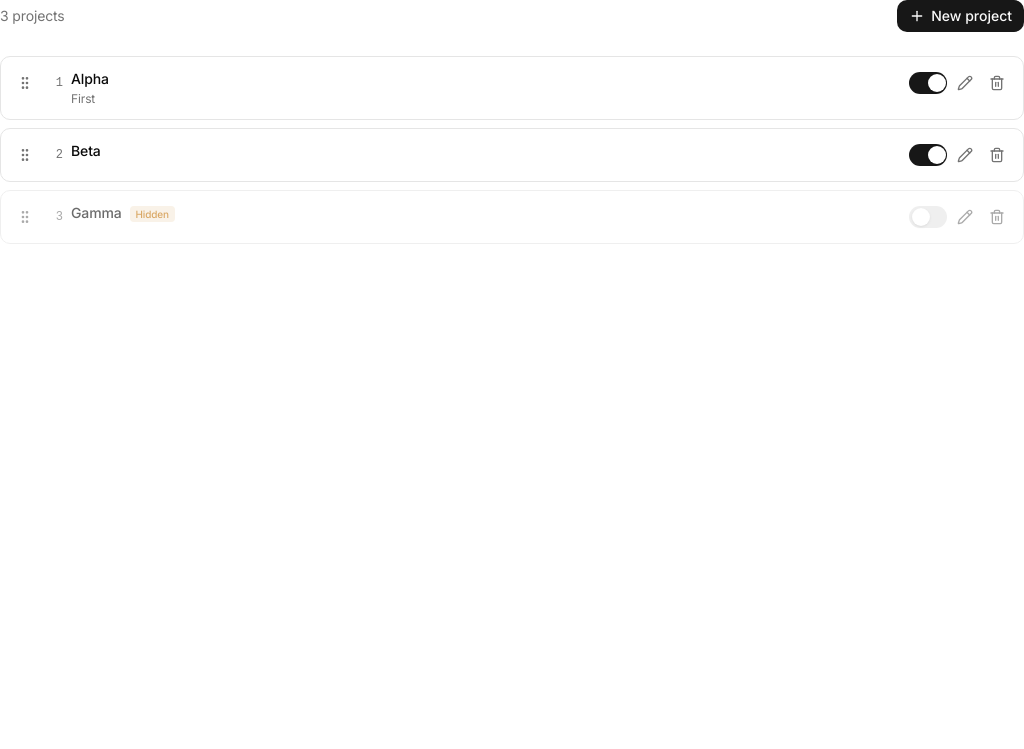
Test: form › maps server field errors back onto the form
Click the button named "Edit Alpha": (965, 83) [951,69,979,97]
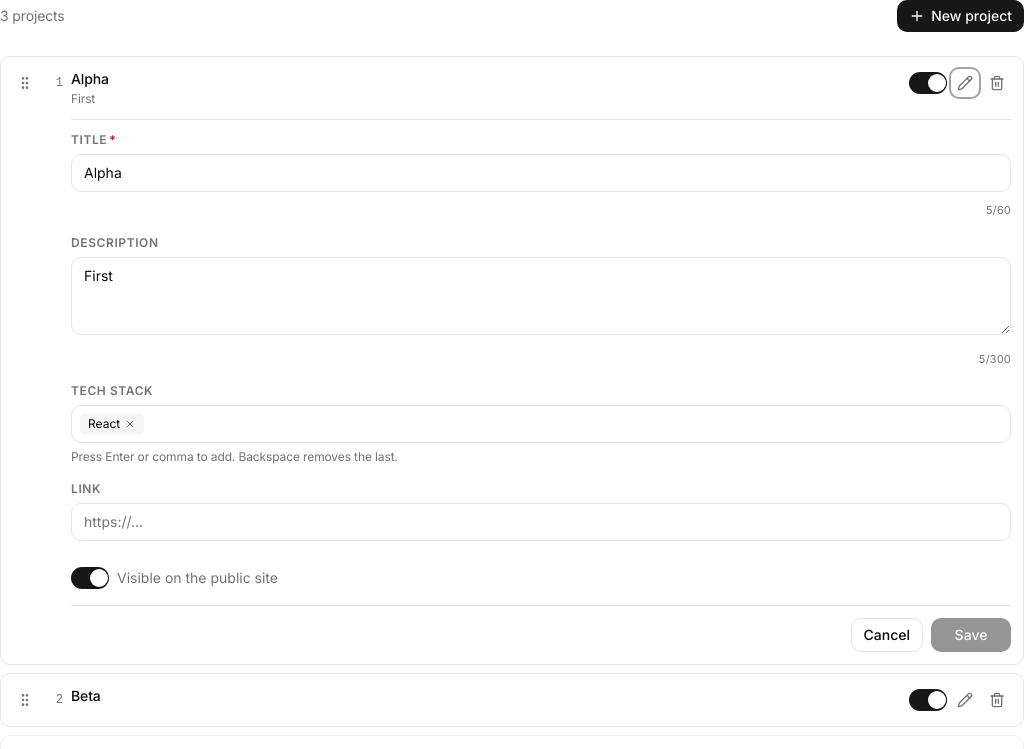
In the field labelled "Title*": (541, 173) [71,154,1011,192], type "!"
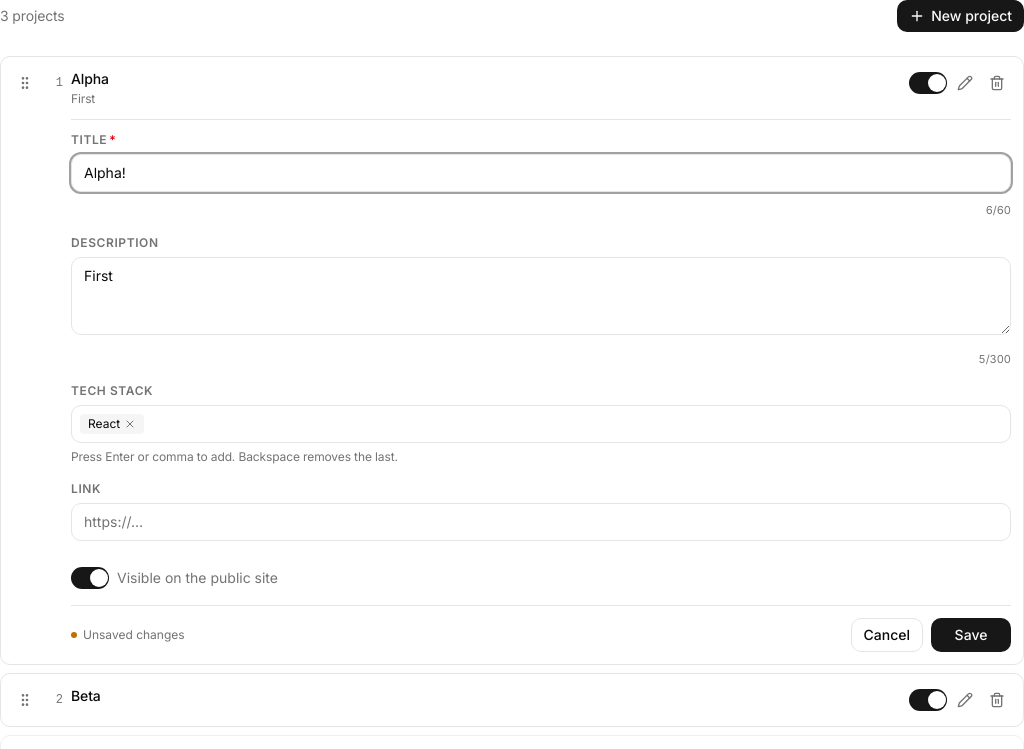
Click the button "Save": (971, 635) [931,618,1011,652]
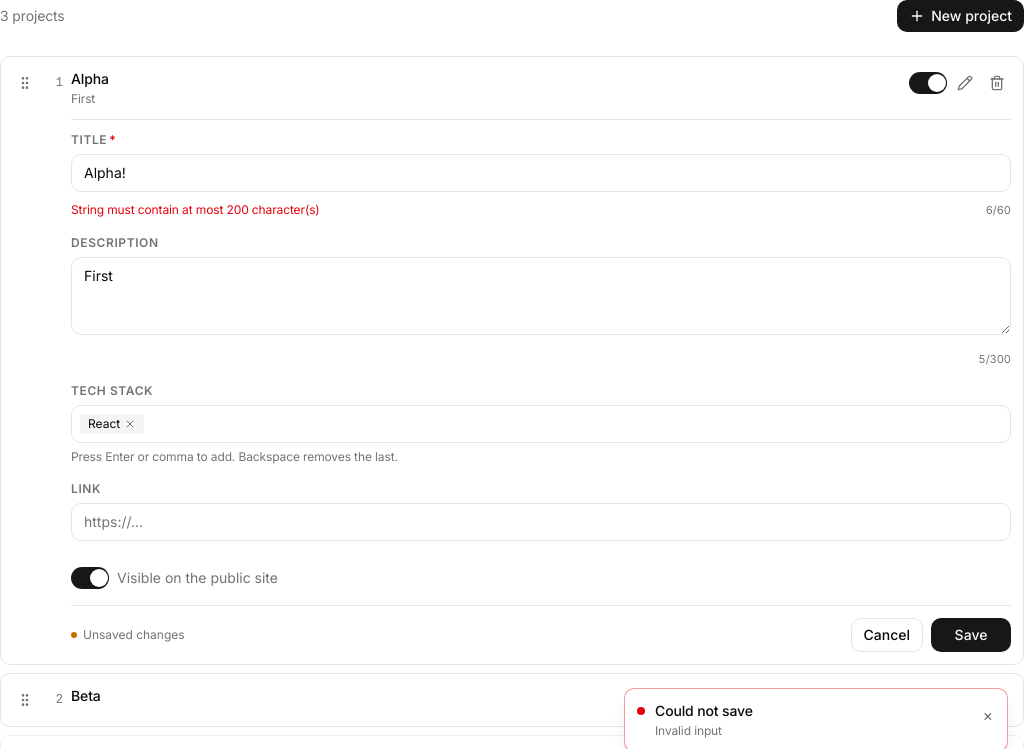
expect the text "String must contain at most 200 character(s)" is shown: met, box [71,202,320,217]
